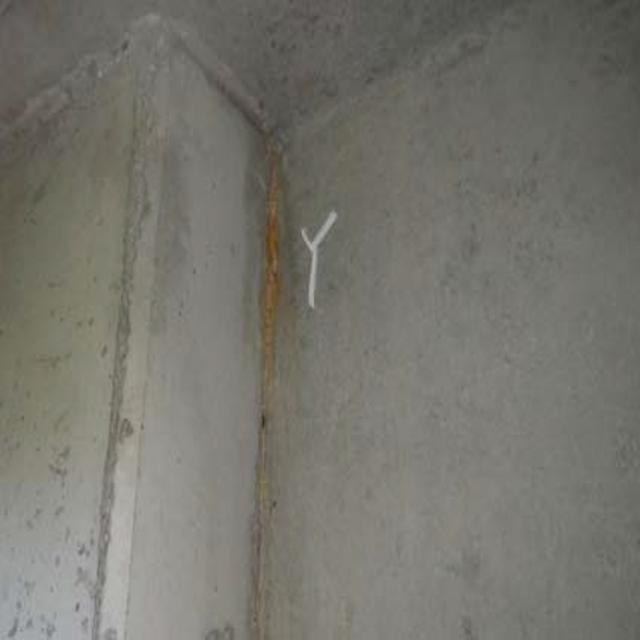leakage: (230, 137, 297, 479)
